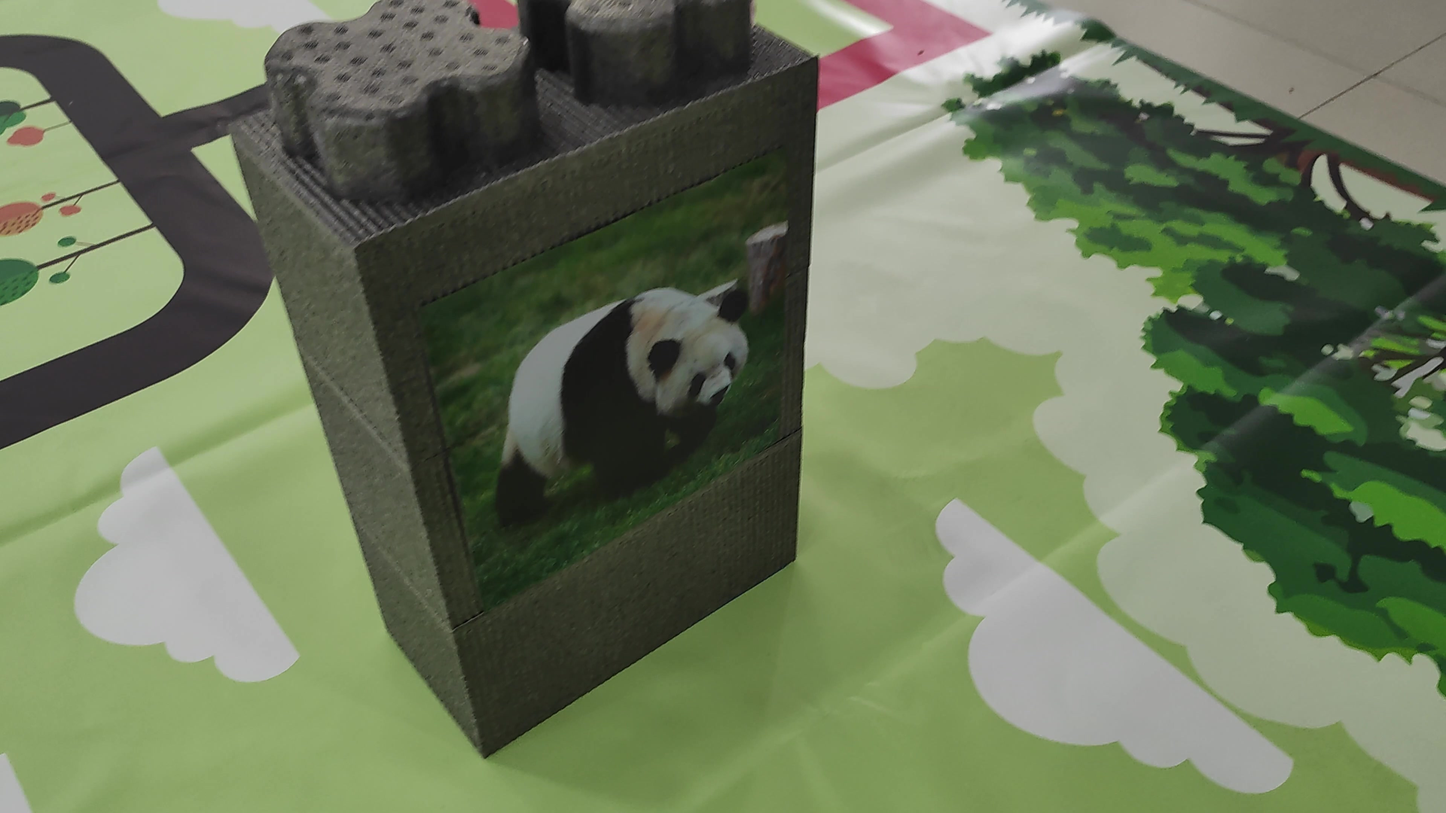panda: (473, 281, 782, 513)
